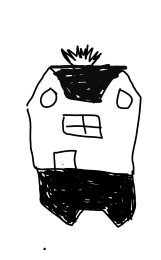closed_window: (57, 110, 108, 139)
door: (47, 143, 78, 173)
open_window: (35, 87, 62, 112), (113, 87, 135, 112)
shaded_roof: (17, 61, 154, 112)
shadow: (25, 166, 145, 232)
smoking_chimney: (53, 35, 111, 73)
